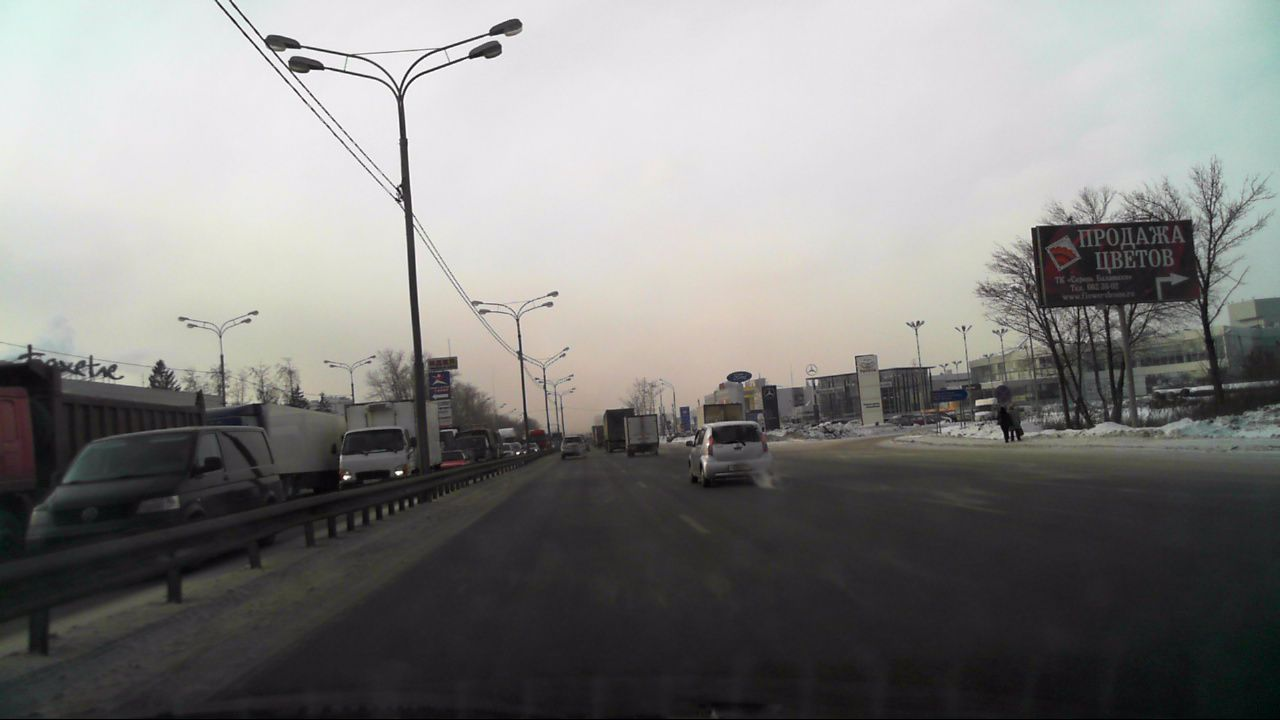No Parking: (994, 385, 1011, 403)
